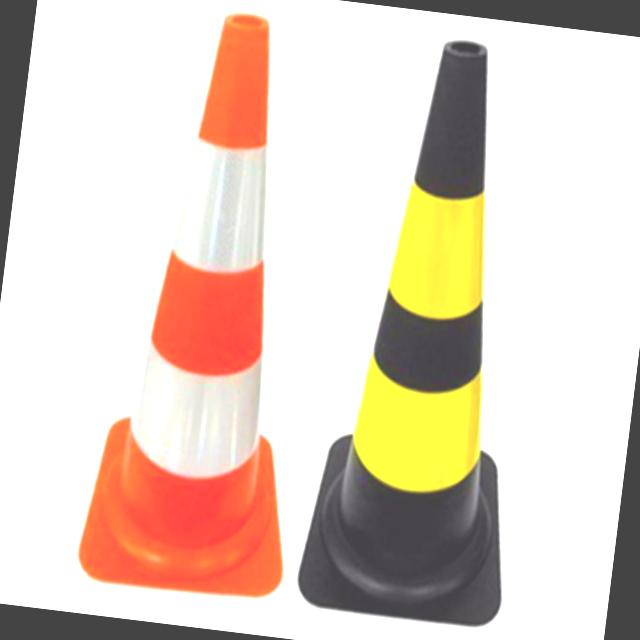cone: (286, 22, 550, 630), (88, 6, 343, 602)
